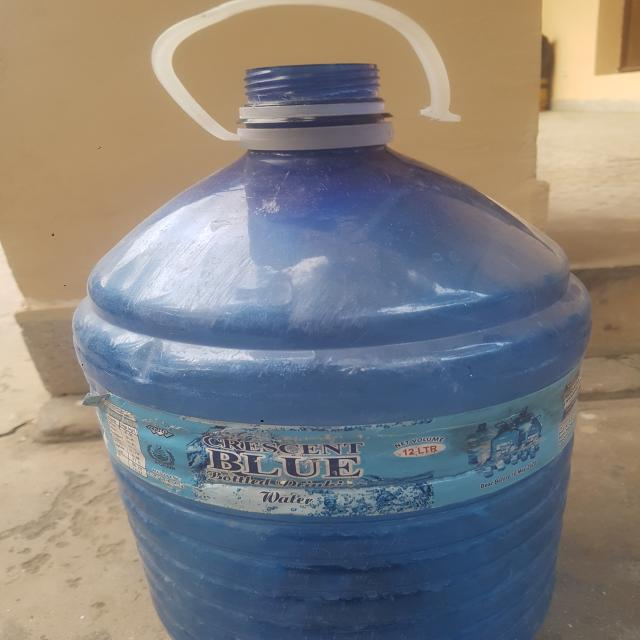general: (71, 61, 593, 639)
